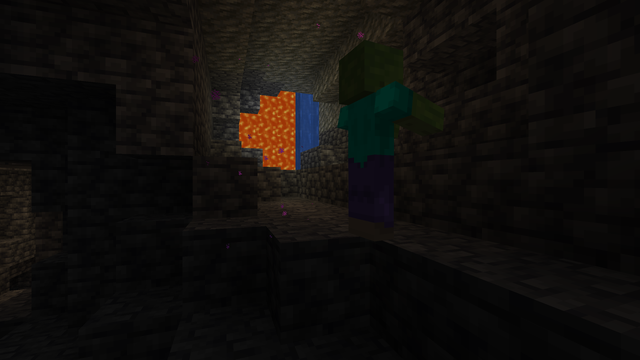zombies: (334, 42, 409, 244)
